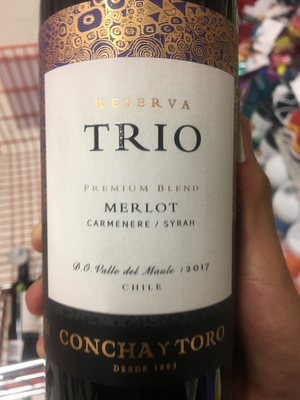trio merlot: (32, 7, 247, 388)
